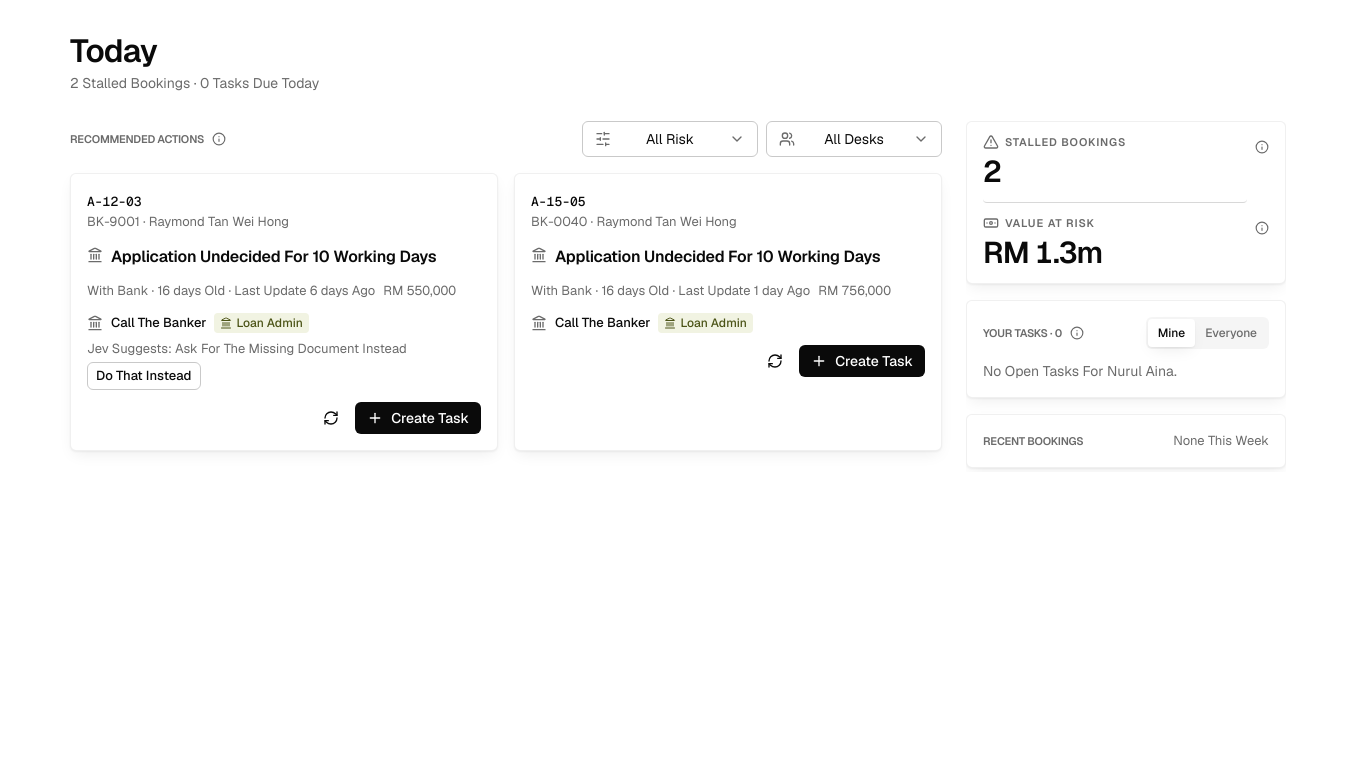
it: ChasePage › the side sheet › opens the same quick view a ledger row opens, from a card, without leaving Today
Click the button with aria-label "Quick View A-12-03: BK-9001" at (188, 212), box [83,190,293,233]
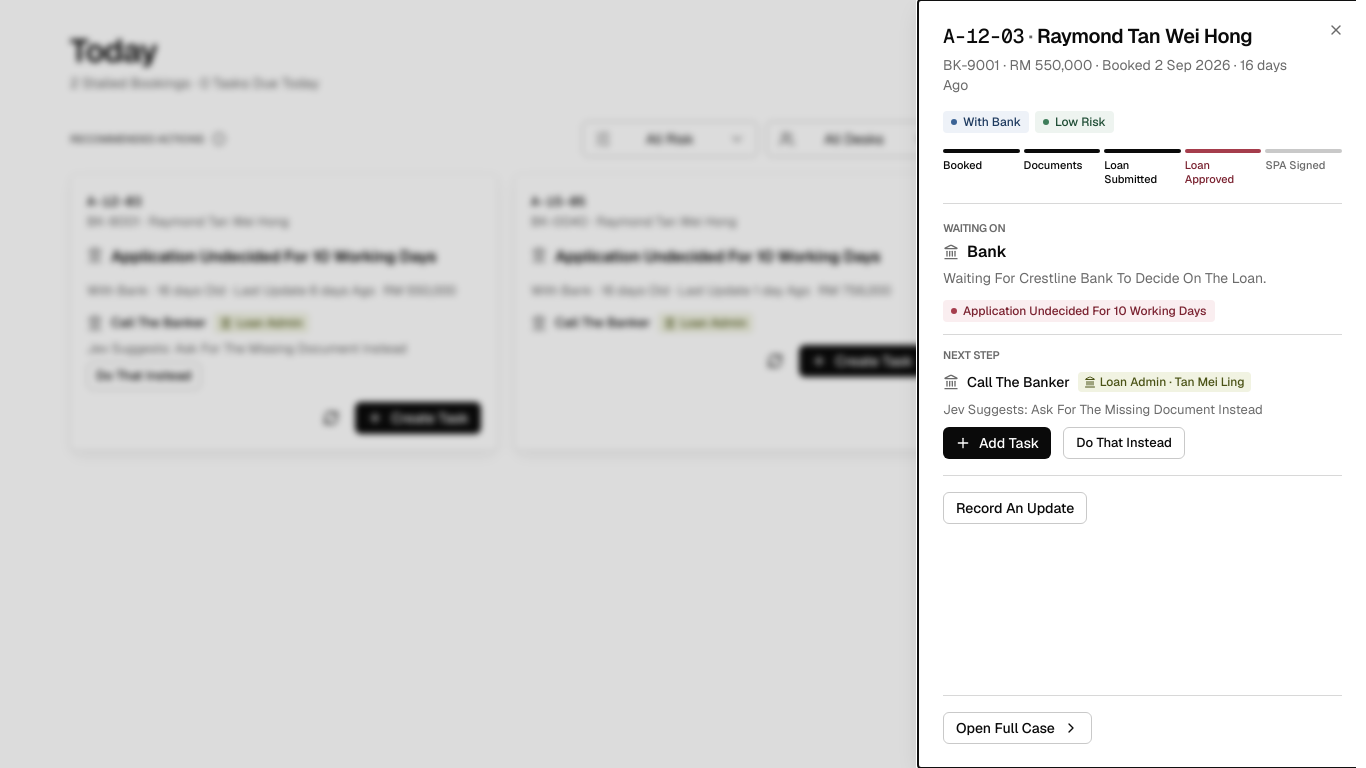
Now the dialog is shown, box [918,0,1365,767]
Now the heading "Waiting On" is shown, box [943,220,1005,234]
Now the heading "Next Step" is shown, box [943,348,1000,362]
